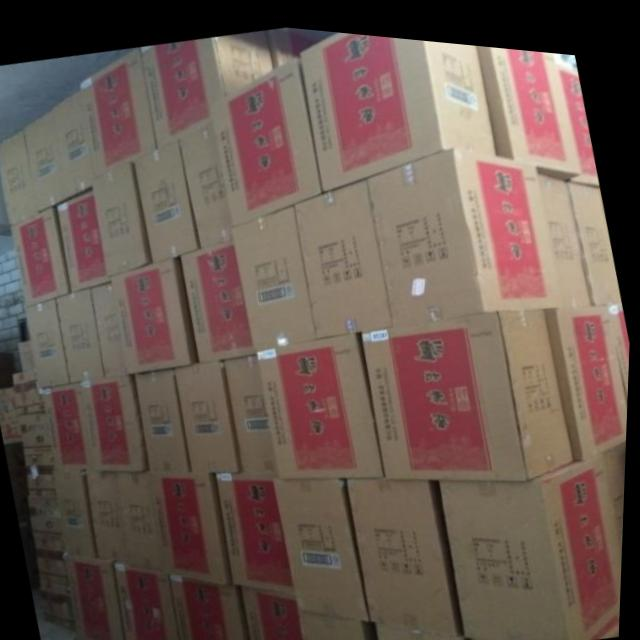box: (366, 137, 596, 317), (438, 427, 629, 635), (362, 297, 578, 471), (299, 26, 496, 185), (209, 51, 323, 222), (257, 325, 386, 474), (348, 471, 467, 628), (293, 170, 393, 333), (138, 27, 275, 140), (474, 36, 582, 169), (275, 471, 372, 614), (546, 293, 630, 449), (232, 198, 316, 345), (146, 469, 238, 581), (115, 250, 198, 371), (78, 47, 157, 174), (219, 466, 297, 589), (180, 236, 255, 360), (130, 131, 198, 259), (175, 354, 243, 471), (91, 155, 152, 277), (223, 347, 282, 469), (179, 116, 234, 245), (84, 374, 146, 471), (134, 366, 192, 468), (172, 570, 255, 640), (52, 185, 105, 293), (10, 207, 67, 306), (67, 550, 127, 640), (115, 560, 182, 640), (56, 285, 106, 383), (114, 468, 163, 567), (51, 87, 94, 196), (23, 108, 65, 214), (46, 379, 96, 467), (25, 296, 72, 386), (56, 465, 102, 555), (87, 466, 128, 563), (91, 279, 131, 377), (245, 584, 309, 640), (0, 129, 37, 225), (306, 608, 380, 640), (380, 617, 480, 640)
